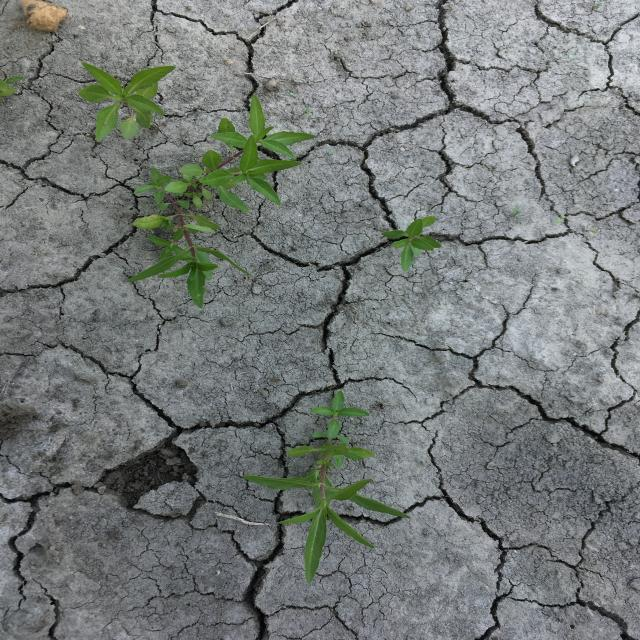Eclipta: (123, 93, 318, 310), (239, 390, 413, 584), (77, 61, 177, 143), (380, 215, 442, 272)
